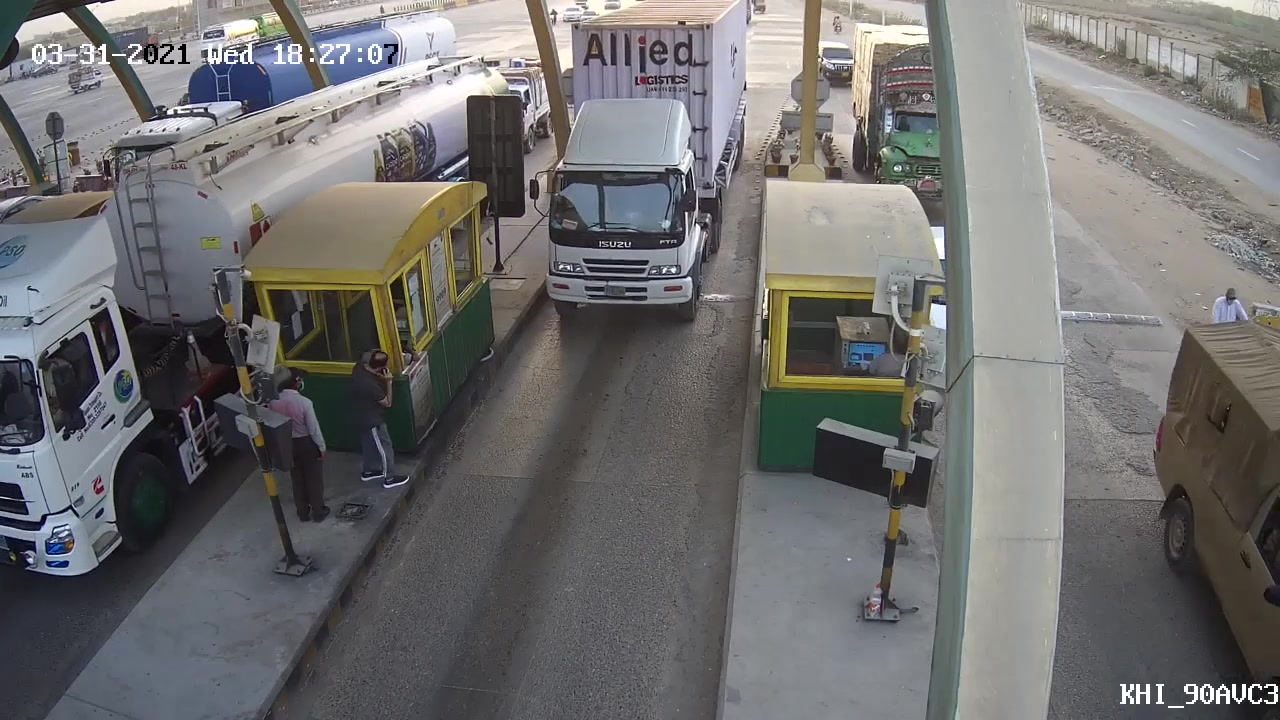F6: (528, 1, 761, 320)
